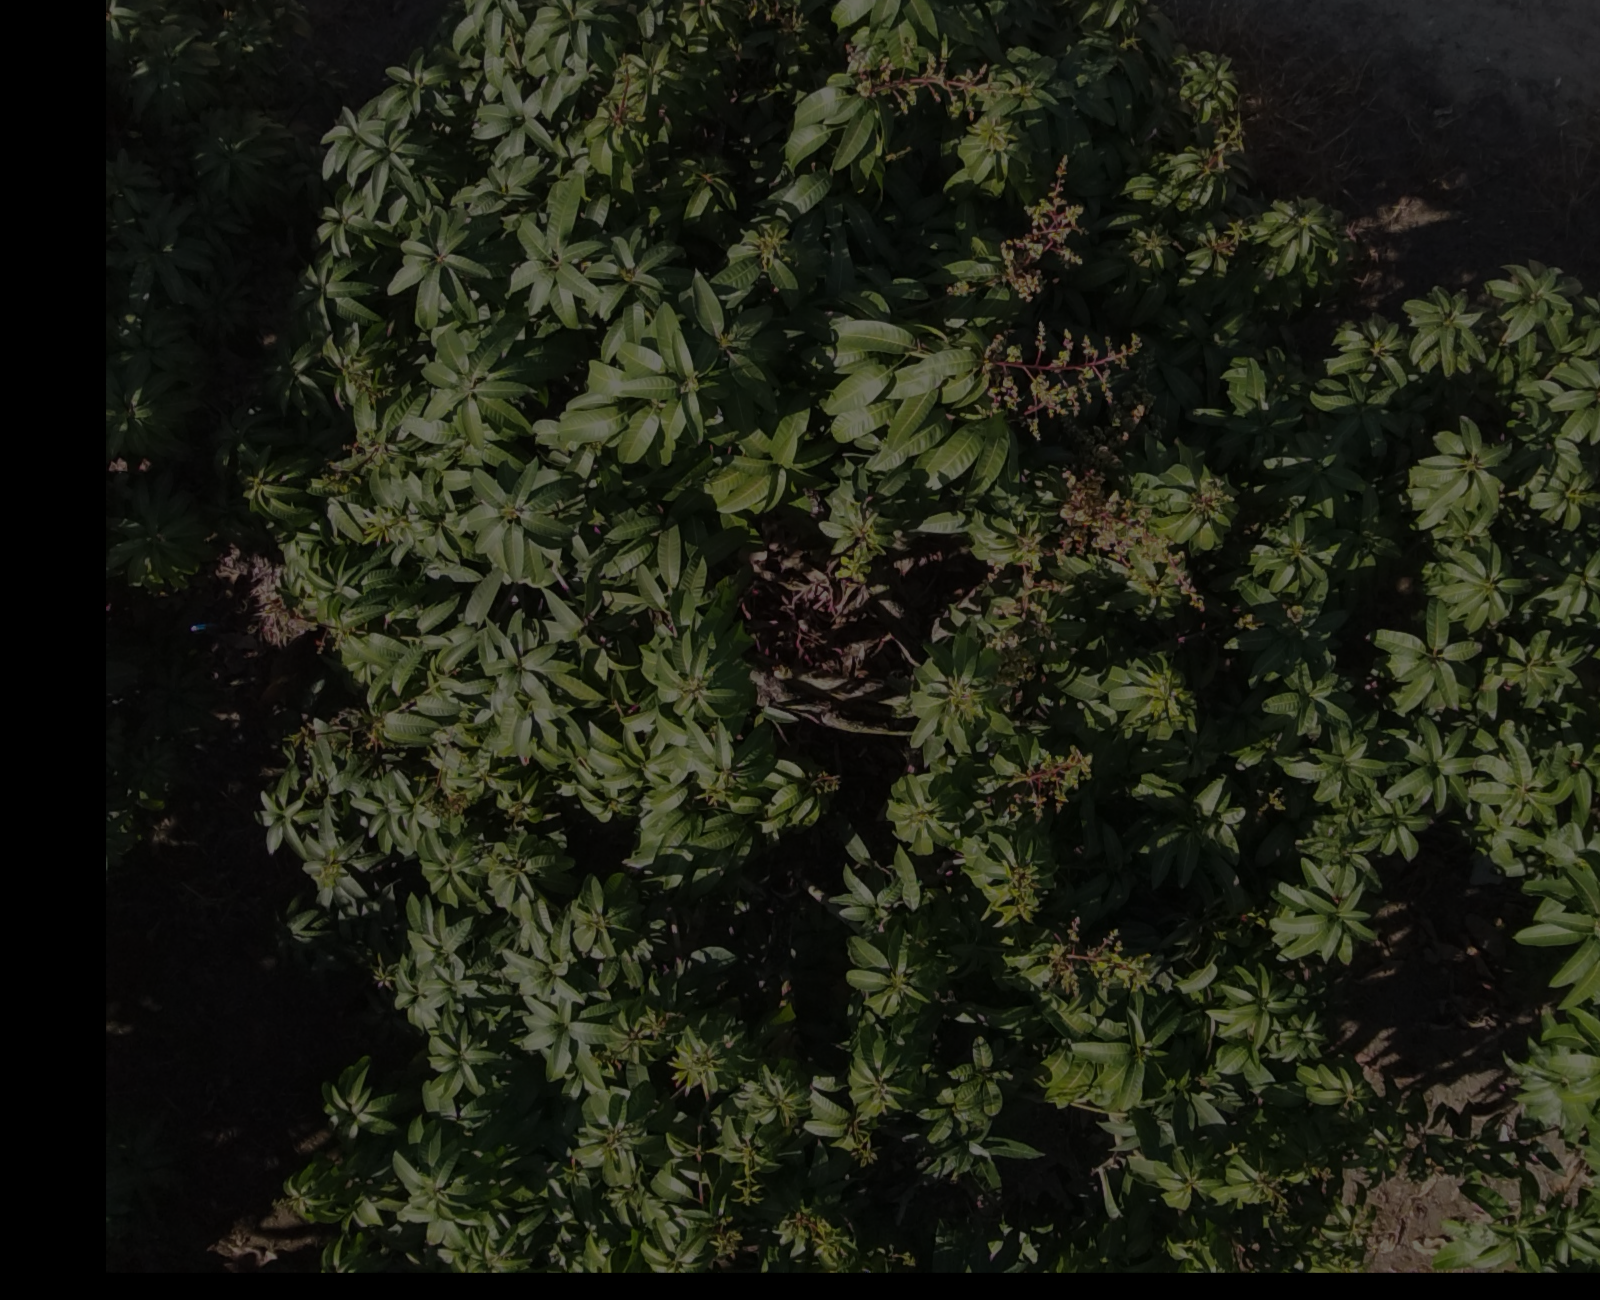flowers: (1060, 468, 1205, 609), (983, 322, 1141, 438), (1002, 155, 1084, 301), (846, 57, 1033, 115), (984, 746, 1092, 820)
